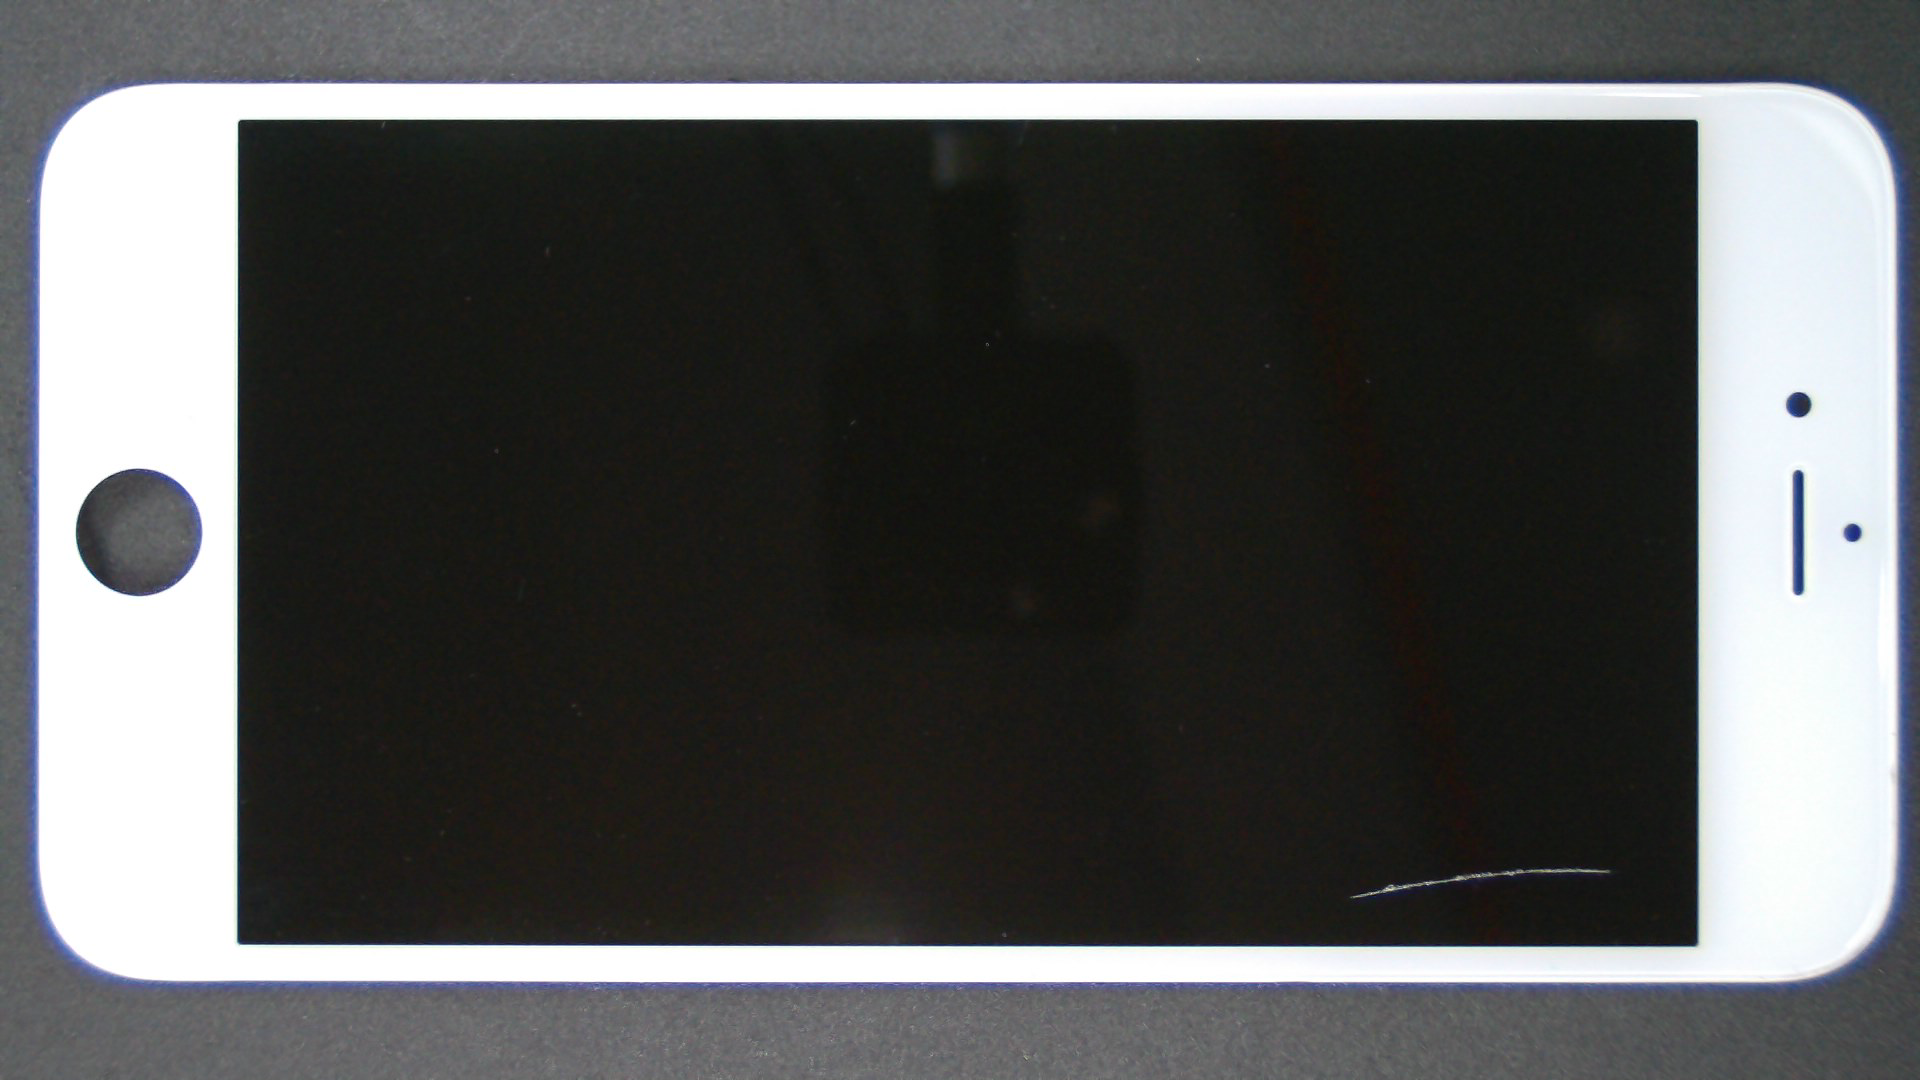defect: (1349, 868, 1611, 898)
